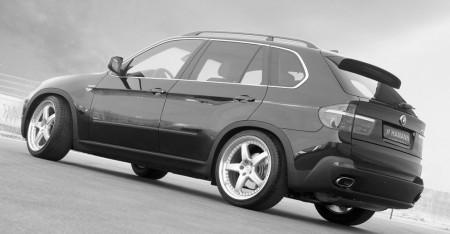car: (9, 17, 440, 234)
